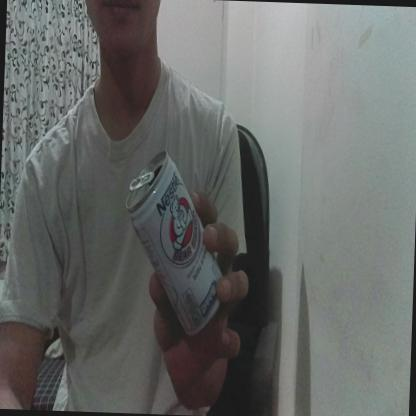alumunium_can: (122, 145, 229, 333)
